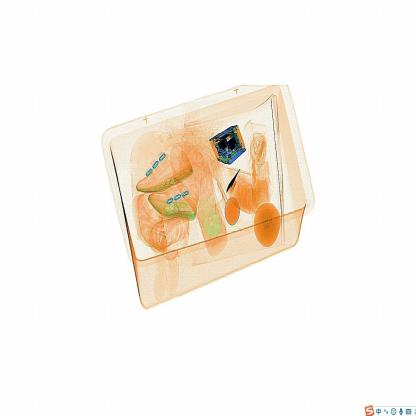wrench: (224, 164, 248, 196)
